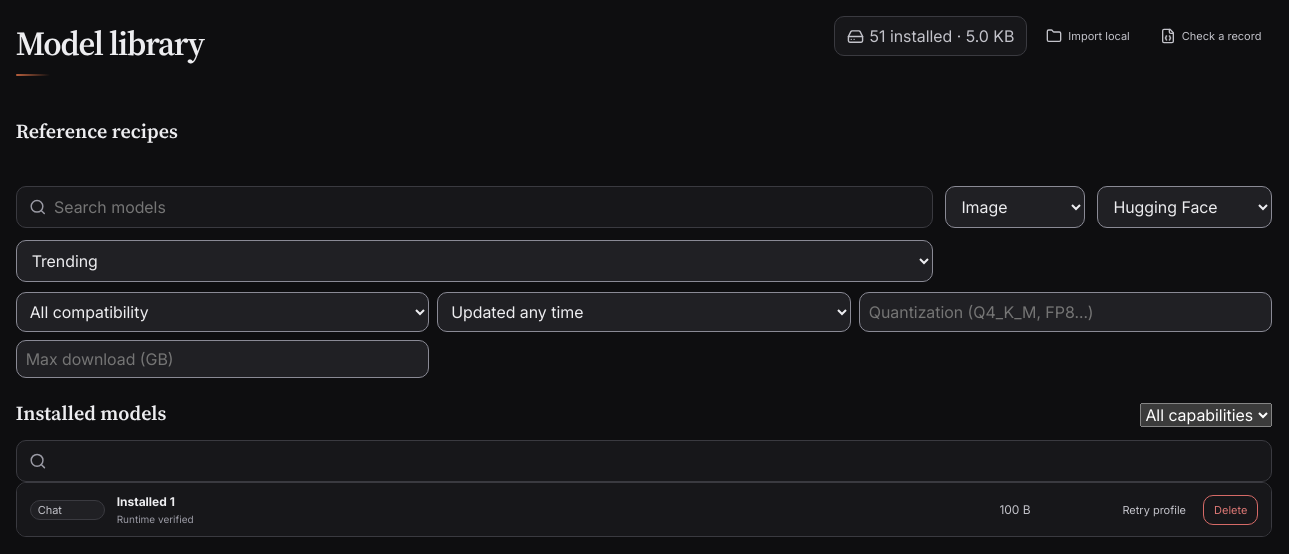
does not offer to recreate a profile when its exact read fails
The width and height of the screenshot is (1289, 554).
Click the button with aria-label "Retry profile for Installed 1" at (1154, 510), box x1=1111 y1=494 x2=1197 y2=524
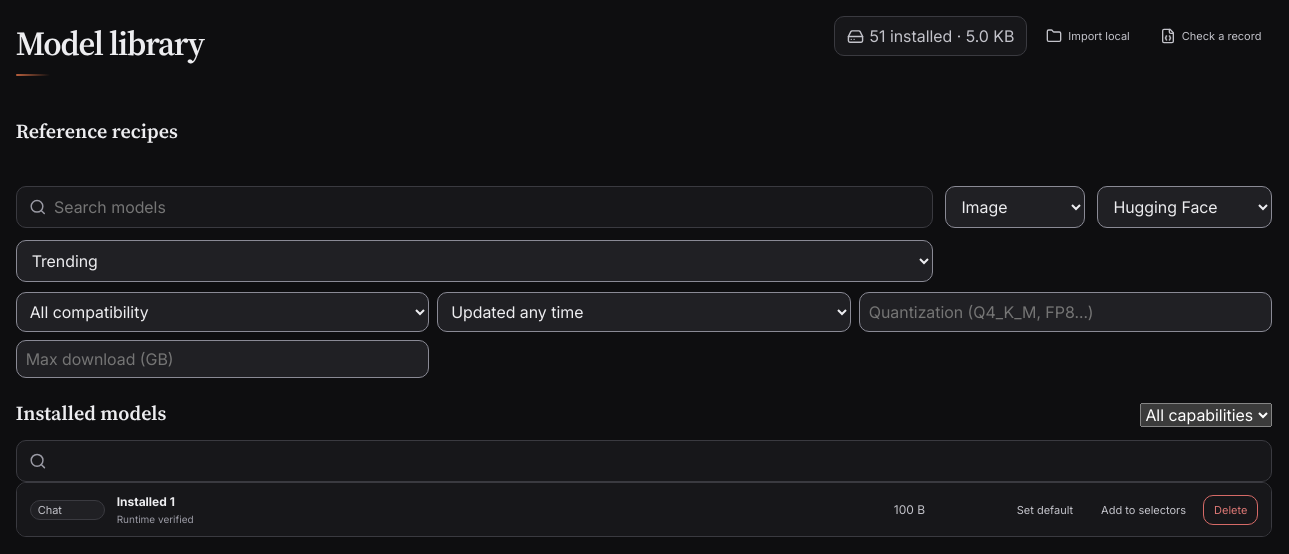
Check: the button with aria-label "Add Installed 1 to model selectors" is enabled, box x1=1090 y1=494 x2=1197 y2=524
